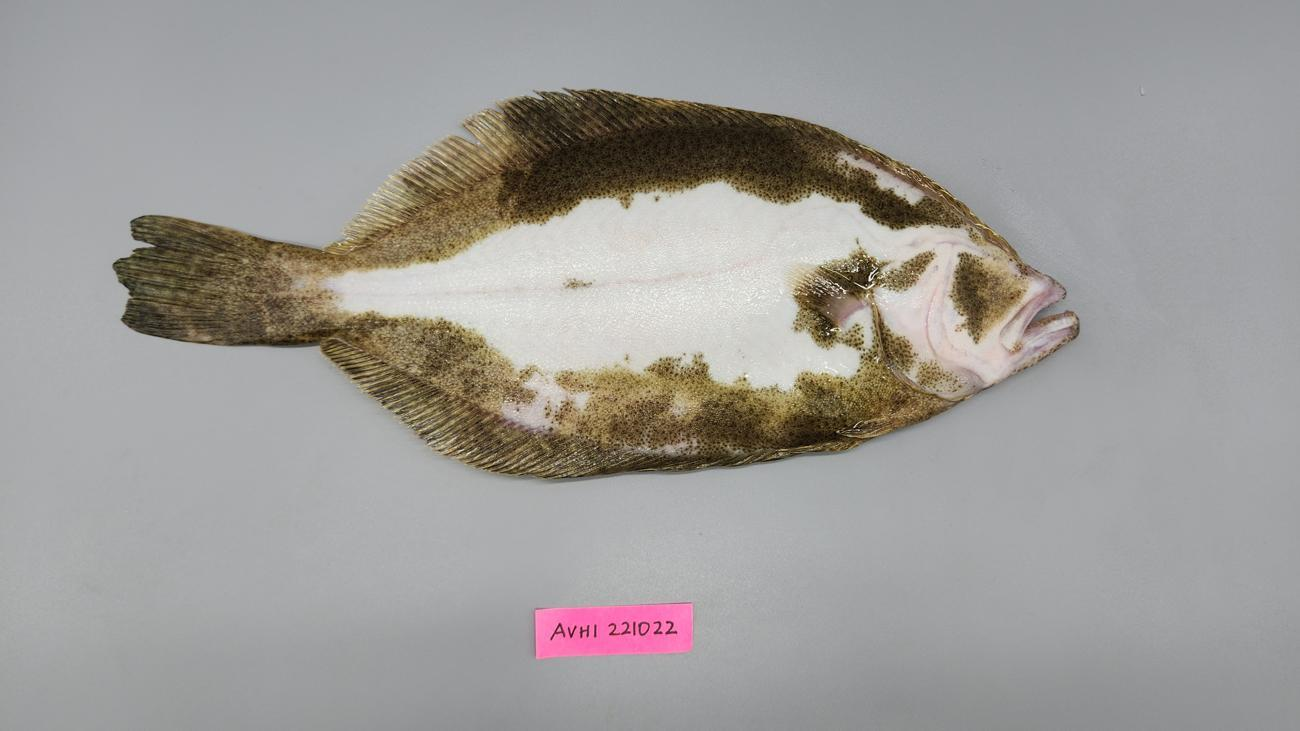VIFDH: (398, 91, 671, 205)
VIOUY: (110, 88, 1080, 475)
